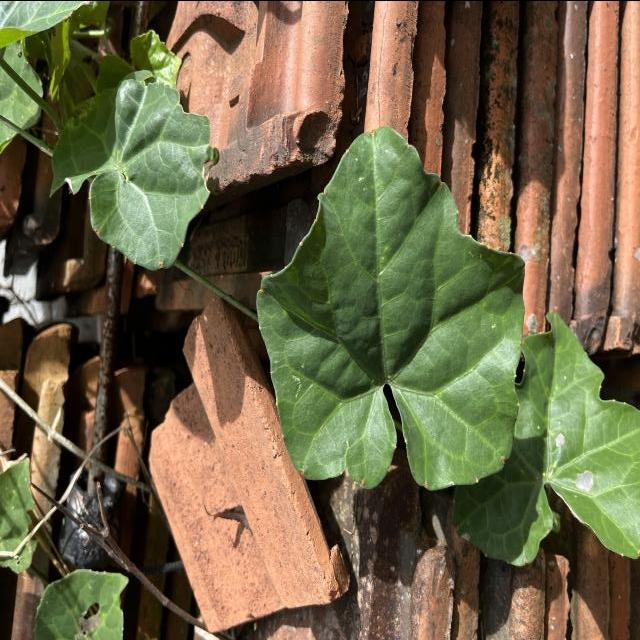Coccinia grandis: (255, 122, 528, 492)
